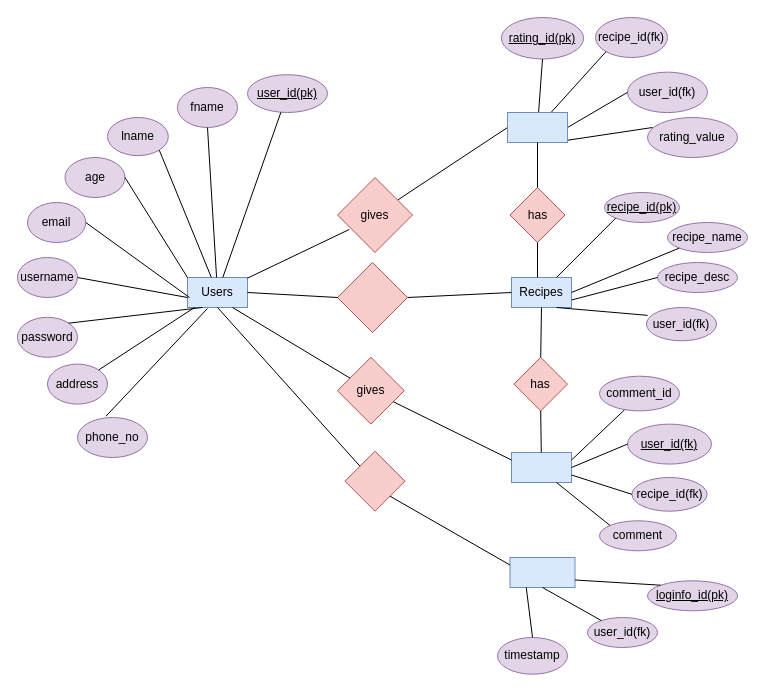
The diagram is 765 pixels wide and 692 high, and some of its shapes have lost their labels. The centre of each missing label's shape, as x and y in pixels:
comments: the point at 541,467
logInfo: the point at 542,572
logs: the point at 374,480
Ratings: the point at 537,127
views/ writes: the point at 372,297
